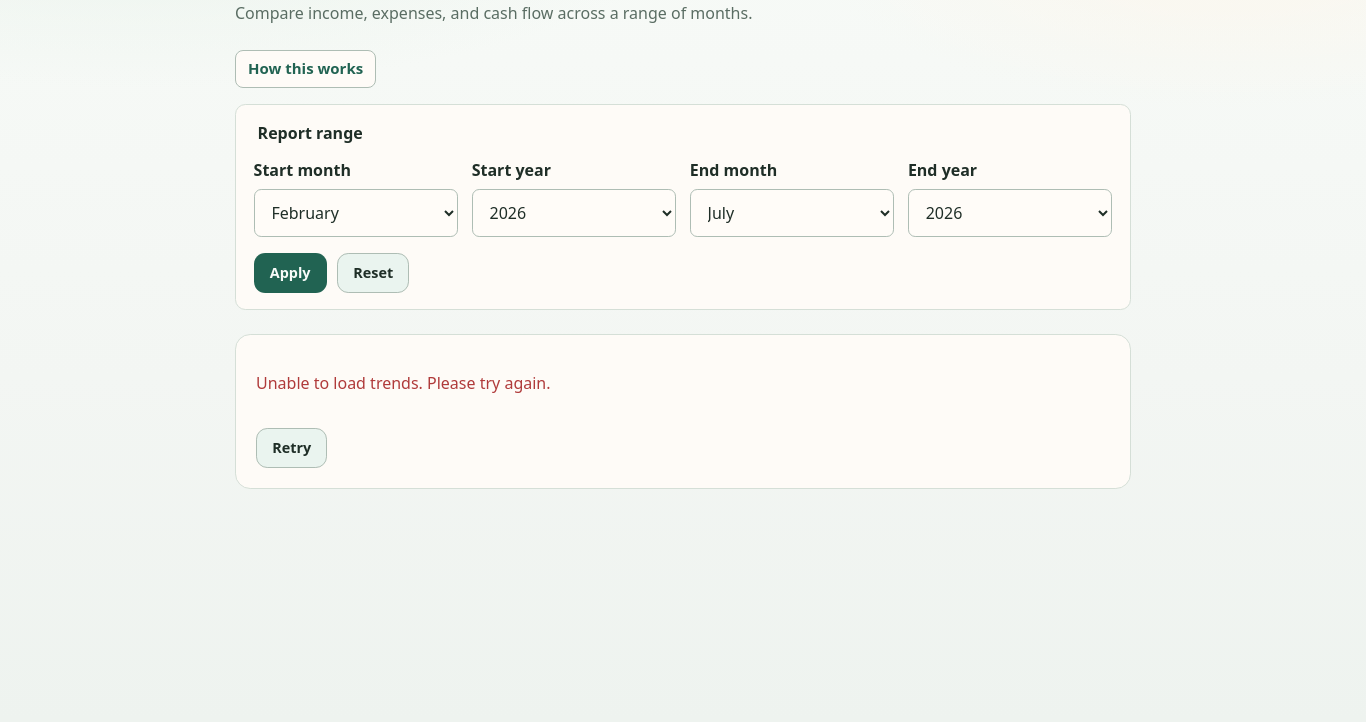
Test case: TrendsPage › shows Retry when the API is unavailable
The width and height of the screenshot is (1366, 722).
Expected: the text "Unable to load trends. Please try again." is shown, [256,371,550,396]
Click the button "Retry" at (292, 448), box [256,428,327,468]
(page scrolled)
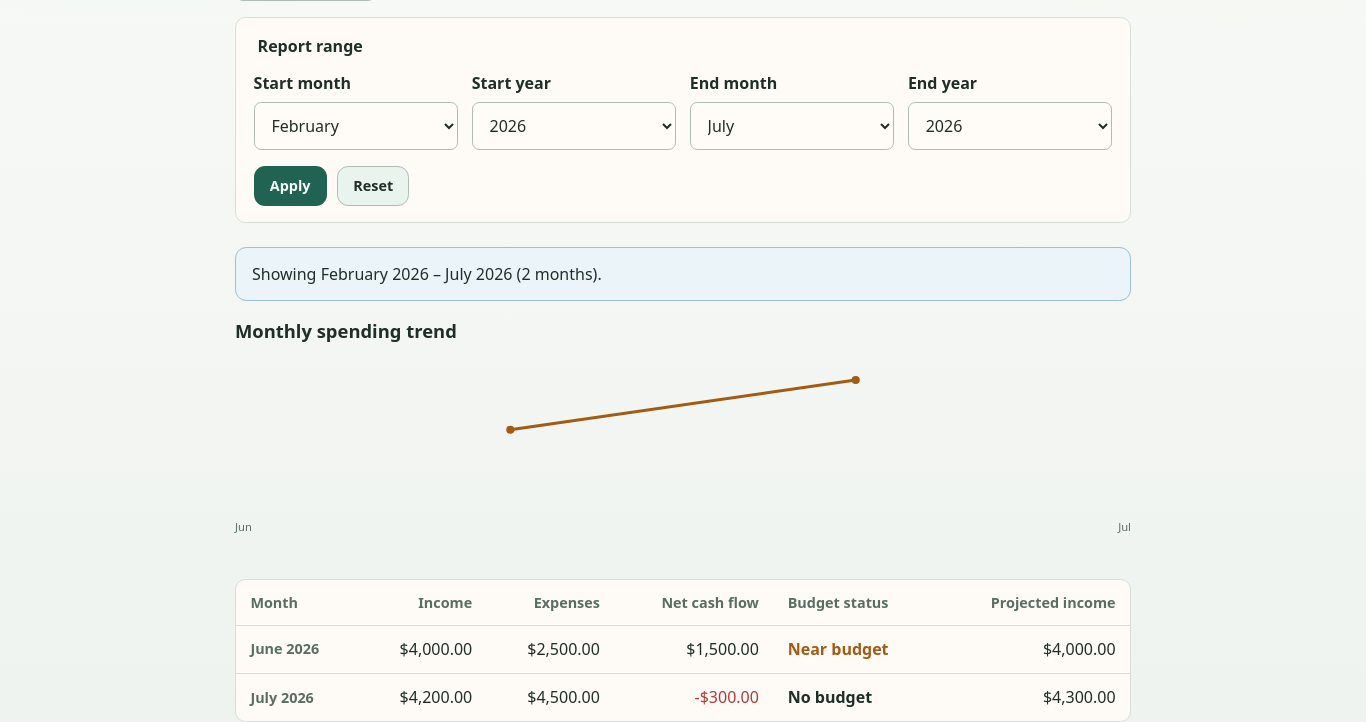
Now the text "$4,300.00" is shown, box [936,674,1130,721]
